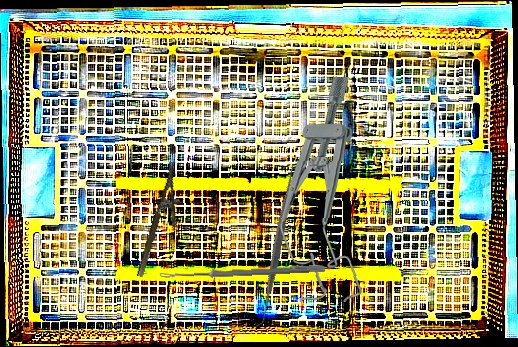Needle Holder: (135, 161, 193, 282)
Spatula Surgical: (194, 160, 361, 329)
Speculum: (279, 76, 366, 303)
Surgical Spoon: (158, 263, 326, 281)
